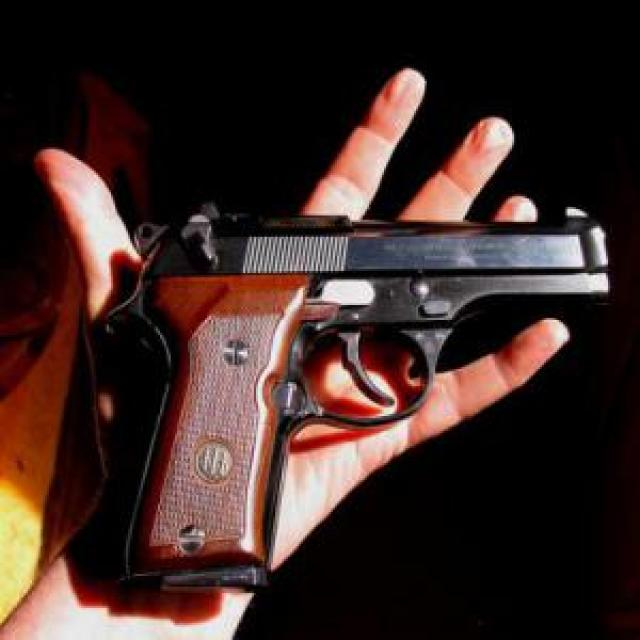pistol: (111, 201, 609, 596)
